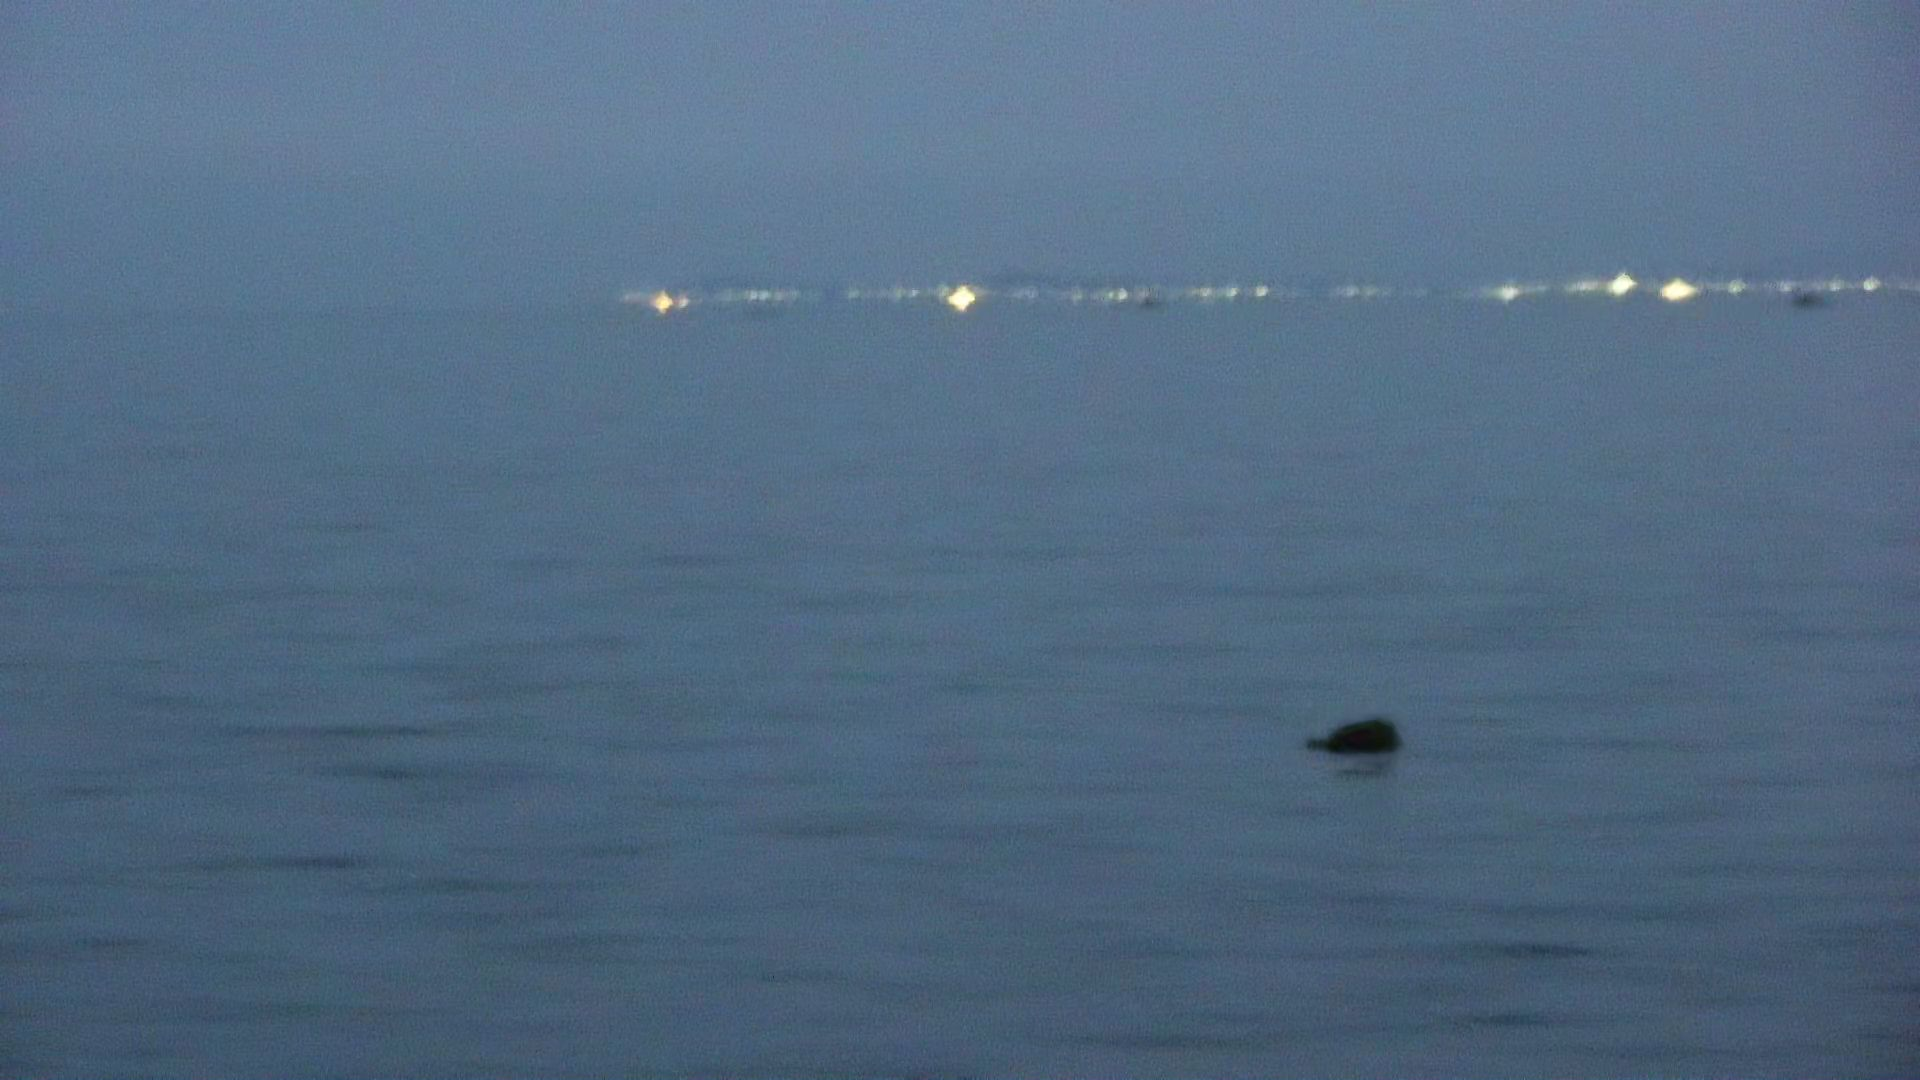rubbish: (1307, 705, 1410, 766)
